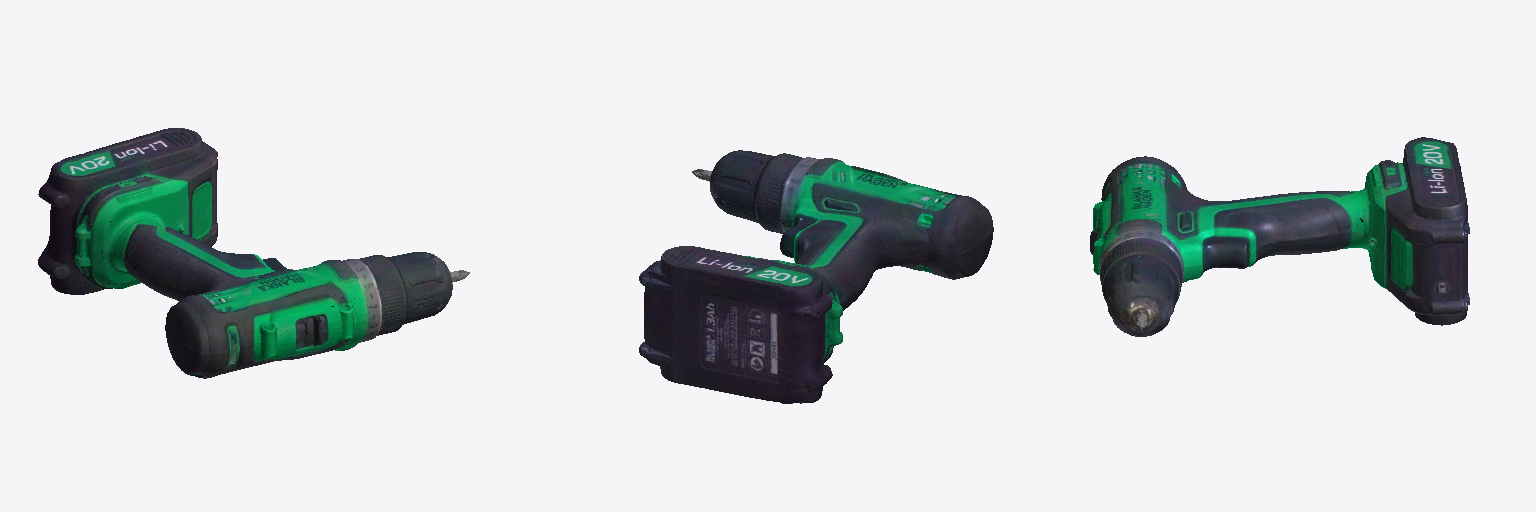
The picture shows the model from 3 angles: view 1: azimuth 30°, elevation 25°; view 2: azimuth 150°, elevation 25°; view 3: azimuth 270°, elevation 25°; orthographic projection.
Parts seen in each view (by area): view 1: Chuck_Mesh2_Group1_Model.004; view 2: Chuck_Mesh2_Group1_Model.004; view 3: Chuck_Mesh2_Group1_Model.004.
Part boxes in pixels (x1,y1,x2,y2): Chuck_Mesh2_Group1_Model.004: (38, 128, 469, 378); Chuck_Mesh2_Group1_Model.004: (639, 150, 993, 403); Chuck_Mesh2_Group1_Model.004: (1090, 137, 1469, 336).
Bounding box in the file's own units: 0.1958 × 0.0769 × 0.2237.
4 materials, 1 textured.